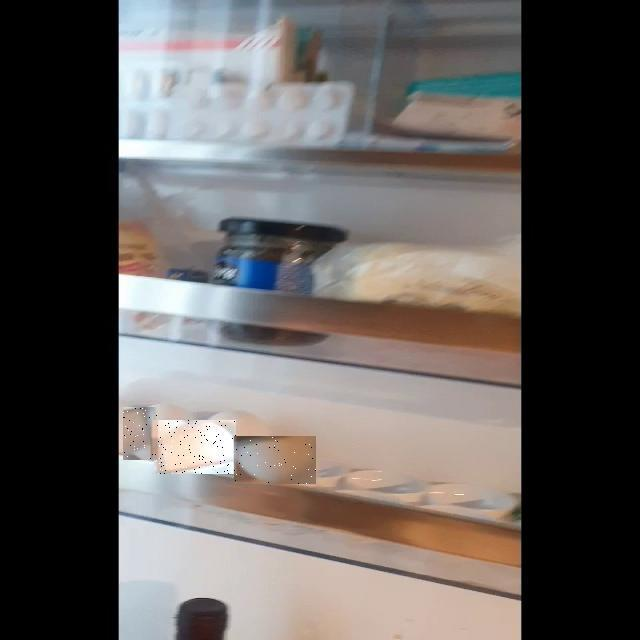egg: (76, 242, 392, 640), (36, 237, 272, 640), (45, 230, 203, 640)
